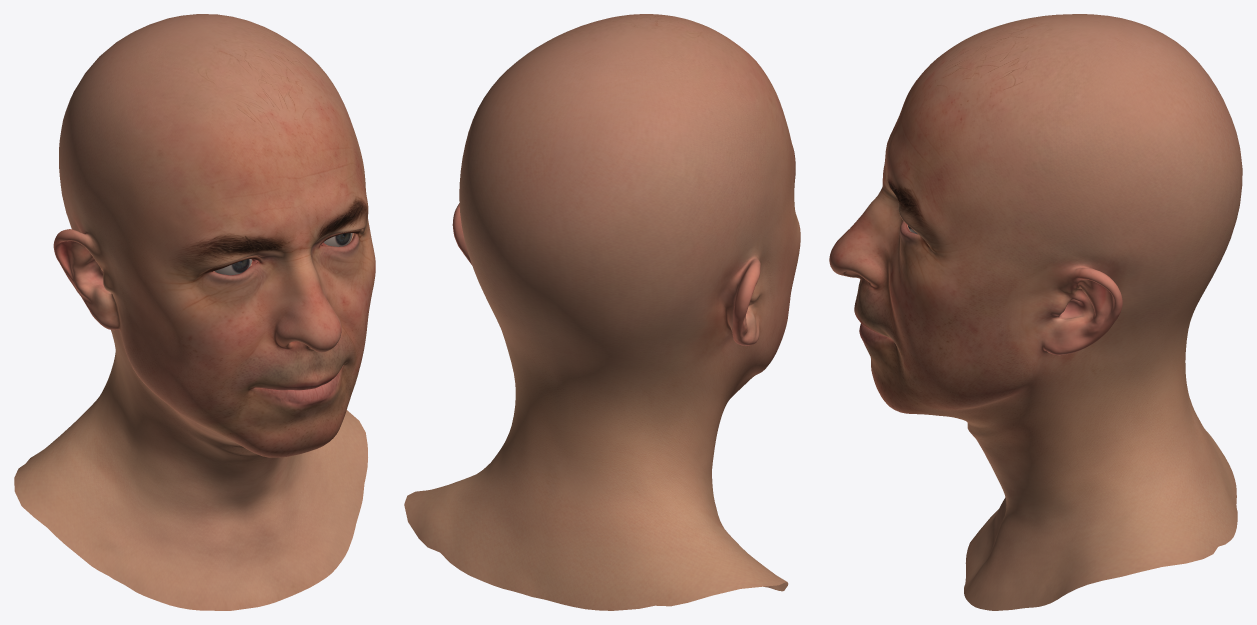
3 renders of one model, left to right at view 1: azimuth 30°, elevation 25°; view 2: azimuth 150°, elevation 25°; view 3: azimuth 270°, elevation 25°, orthographic. The views are drawn at different scales.
Parts seen in each view (by area): view 1: Registered head; view 2: Registered head; view 3: Registered head.
Boxes of the visible parts, bbox=[...] form: Registered head: bbox=[14, 14, 375, 610]; Registered head: bbox=[404, 14, 800, 610]; Registered head: bbox=[829, 14, 1242, 610].
Size of the model in its own units: 1.25 by 1.9 by 1.28.
3 materials, 3 textured.
